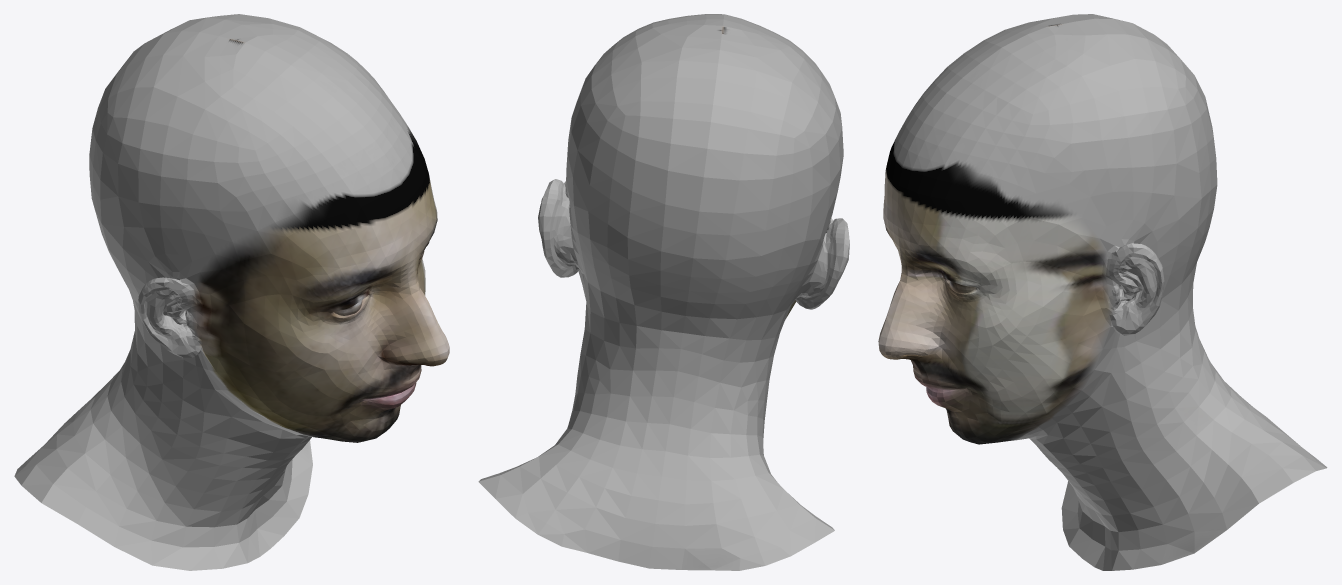
Rendered from ezgif-frame-040.obj.
3 views of the same model, side by side, from view 1: azimuth 30°, elevation 25°; view 2: azimuth 150°, elevation 25°; view 3: azimuth 270°, elevation 25° (orthographic). The views are drawn at different scales.
Bounding box in the file's own units: 0.1997 × 0.3268 × 0.2571.
1 material, 1 textured.
